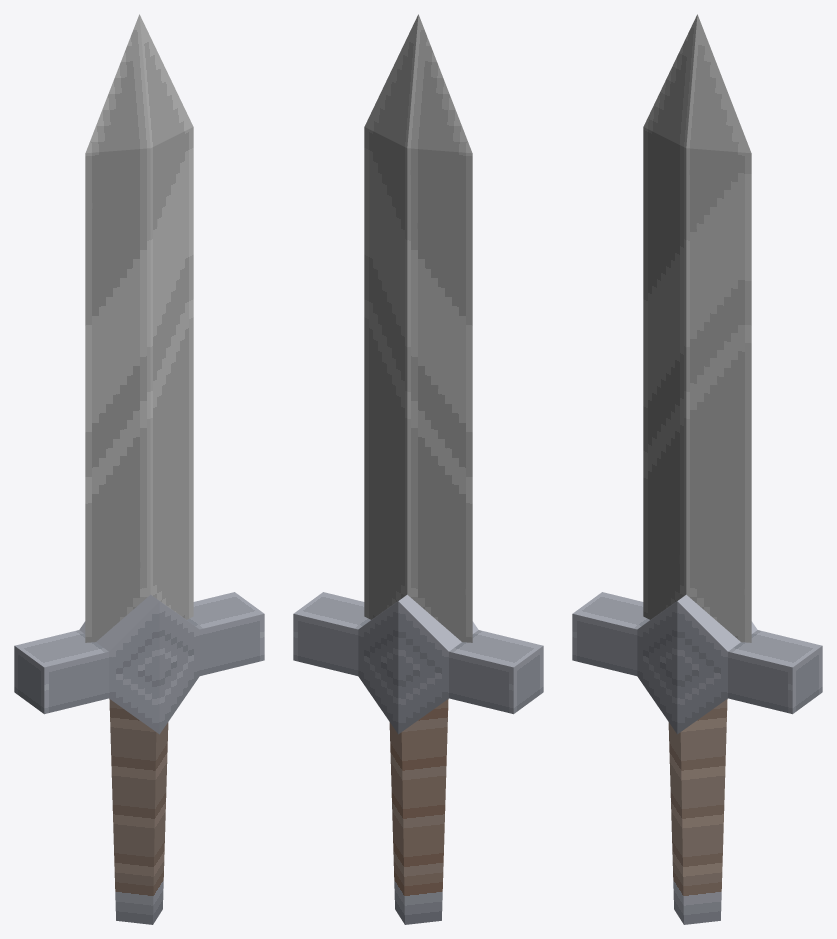
File: IronSword.fbx
The picture shows the model from 3 angles, left to right: view 1: azimuth 30°, elevation 25°; view 2: azimuth 150°, elevation 25°; view 3: azimuth 330°, elevation 25°; orthographic projection.
Parts seen in each view (by area): view 1: IronSword; view 2: IronSword; view 3: IronSword.
Part boxes in pixels (x1=…): IronSword: x1=14, y1=14, x2=264, y2=924; IronSword: x1=293, y1=14, x2=543, y2=924; IronSword: x1=572, y1=14, x2=822, y2=924.
Size of the model in its own units: 21.23 by 83 by 6.73.
Materials: 1 (1 with a texture image).
